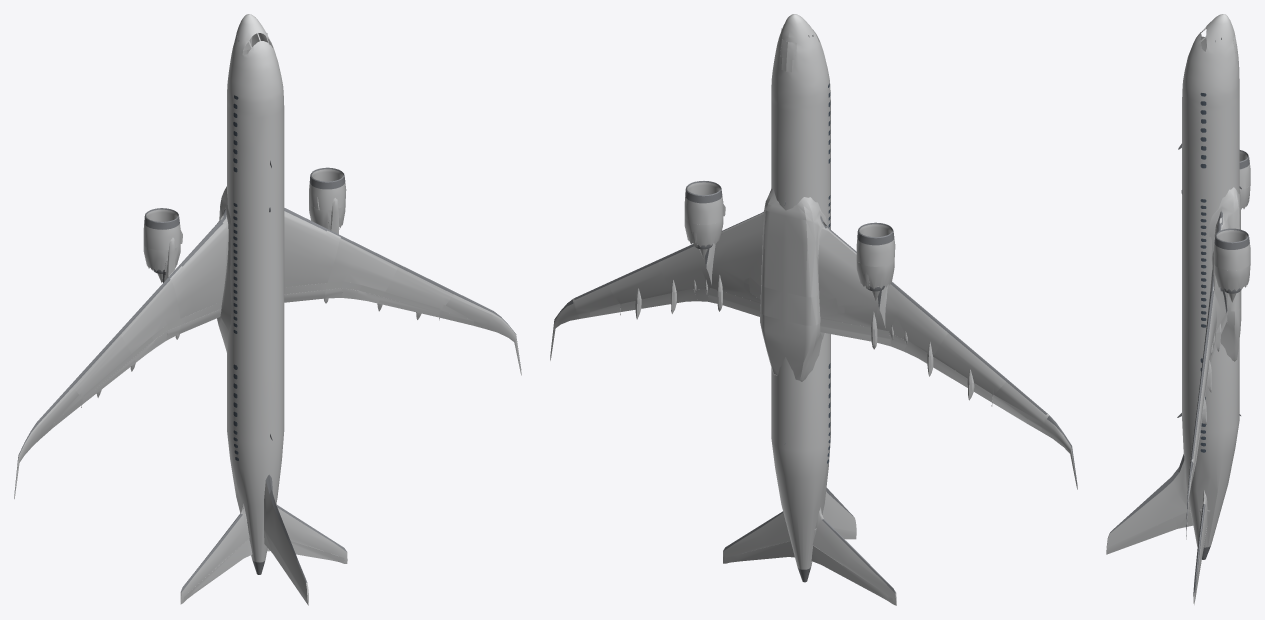
The picture shows the model from 3 angles, left to right: view 1: azimuth 30°, elevation 25°; view 2: azimuth 150°, elevation 25°; view 3: azimuth 270°, elevation 25°; orthographic projection. The views are drawn at different scales.
Visible parts, largest first — view 1: B789; view 2: B789; view 3: B789.
Part boxes in pixels (bbox=[...]): B789: bbox=[14, 14, 521, 605]; B789: bbox=[550, 14, 1077, 605]; B789: bbox=[1106, 14, 1250, 604].
Bounding box in the file's own units: 59.58 × 62.81 × 14.93.
